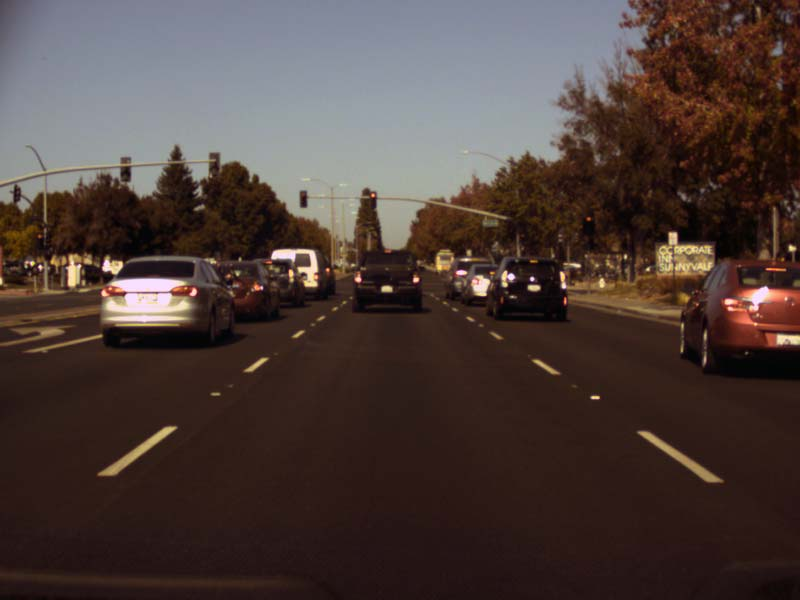Red: (584, 212, 594, 236), (369, 191, 376, 209), (299, 190, 306, 207), (36, 232, 43, 248)
Yellow: (519, 230, 524, 241)
